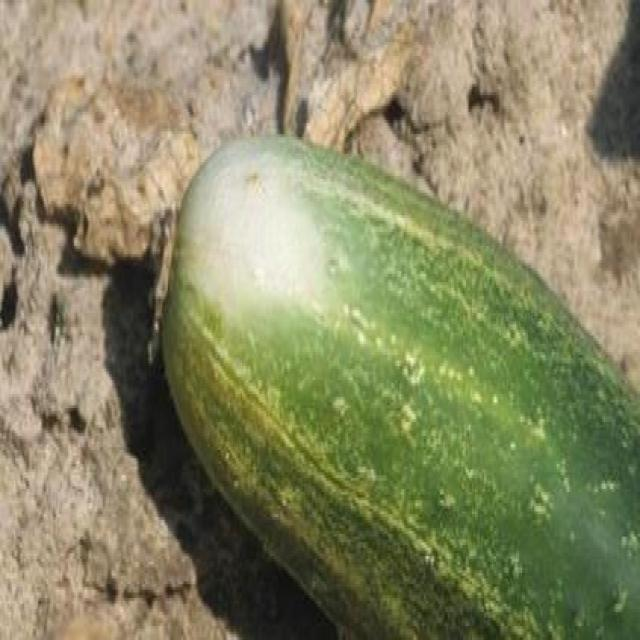Sunscald Fruit: (138, 89, 221, 235)
